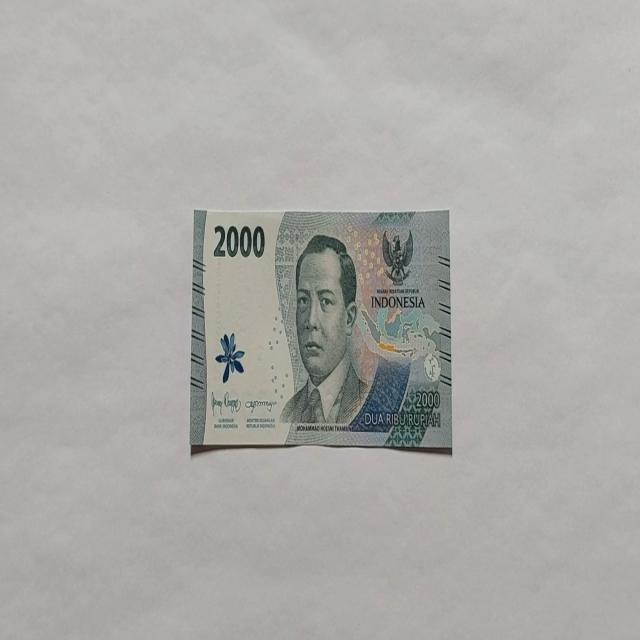dua ribu rupiah: (189, 206, 452, 454), (278, 233, 372, 429)
